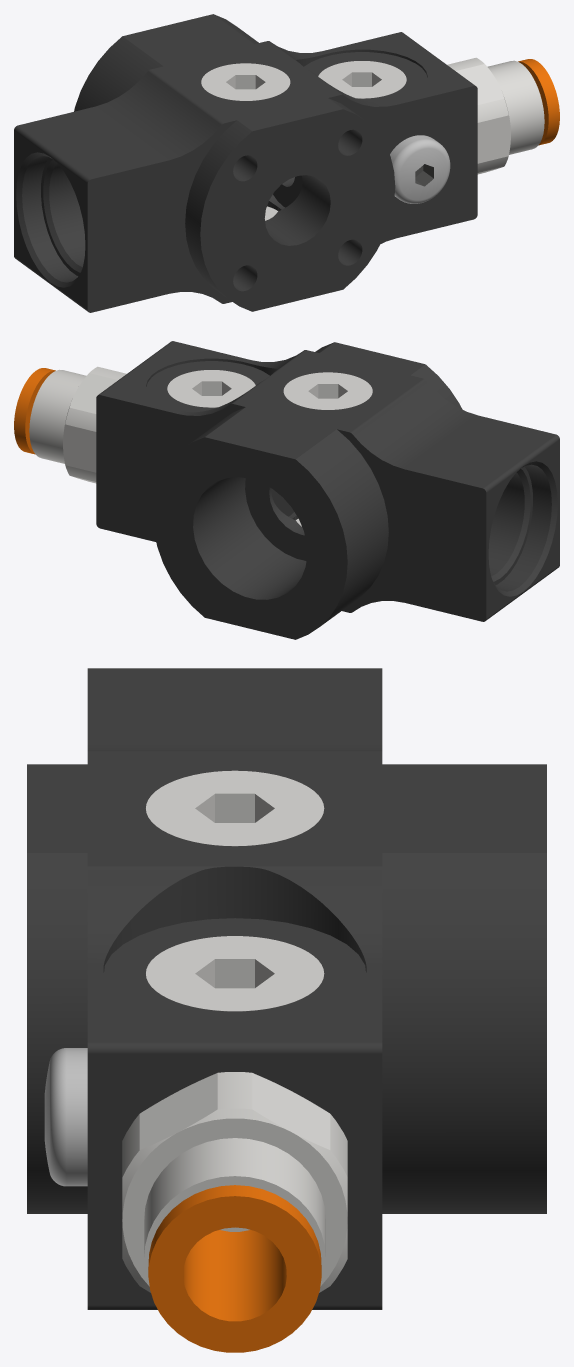
The picture shows the model from 3 angles, top to bottom: view 1: azimuth 30°, elevation 25°; view 2: azimuth 150°, elevation 25°; view 3: azimuth 270°, elevation 25°; orthographic projection. The views are drawn at different scales.
Parts seen in each view (by area): view 1: VGS3010.AK.00.BA.SLDPRT_color-5, VGS3010.AK.00.BA.SLDPRT_color, VGS3010.AK.00.BA.SLDPRT_color-4, VGS3010.AK.00.BA.SLDPRT_color-2; view 2: VGS3010.AK.00.BA.SLDPRT_color-5, VGS3010.AK.00.BA.SLDPRT_color, VGS3010.AK.00.BA.SLDPRT_color-2; view 3: VGS3010.AK.00.BA.SLDPRT_color-5, VGS3010.AK.00.BA.SLDPRT_color, VGS3010.AK.00.BA.SLDPRT_color-2, VGS3010.AK.00.BA.SLDPRT_color-4.
Part boxes in pixels (<box>): VGS3010.AK.00.BA.SLDPRT_color-5: <box>14,14,477,312</box>; VGS3010.AK.00.BA.SLDPRT_color: <box>201,57,544,220</box>; VGS3010.AK.00.BA.SLDPRT_color-4: <box>390,135,450,203</box>; VGS3010.AK.00.BA.SLDPRT_color-2: <box>518,59,559,145</box>; VGS3010.AK.00.BA.SLDPRT_color-5: <box>96,341,559,639</box>; VGS3010.AK.00.BA.SLDPRT_color: <box>29,366,372,526</box>; VGS3010.AK.00.BA.SLDPRT_color-2: <box>14,368,55,454</box>; VGS3010.AK.00.BA.SLDPRT_color-5: <box>27,668,546,1309</box>; VGS3010.AK.00.BA.SLDPRT_color: <box>122,770,347,1292</box>; VGS3010.AK.00.BA.SLDPRT_color-2: <box>148,1185,321,1352</box>; VGS3010.AK.00.BA.SLDPRT_color-4: <box>44,1048,87,1186</box>.
Bounding box in the file's own units: 0.065 × 0.023 × 0.03.
